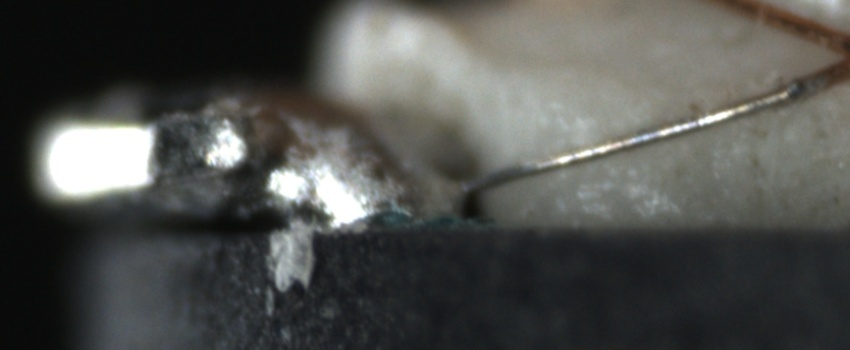TS: (464, 81, 809, 194)
